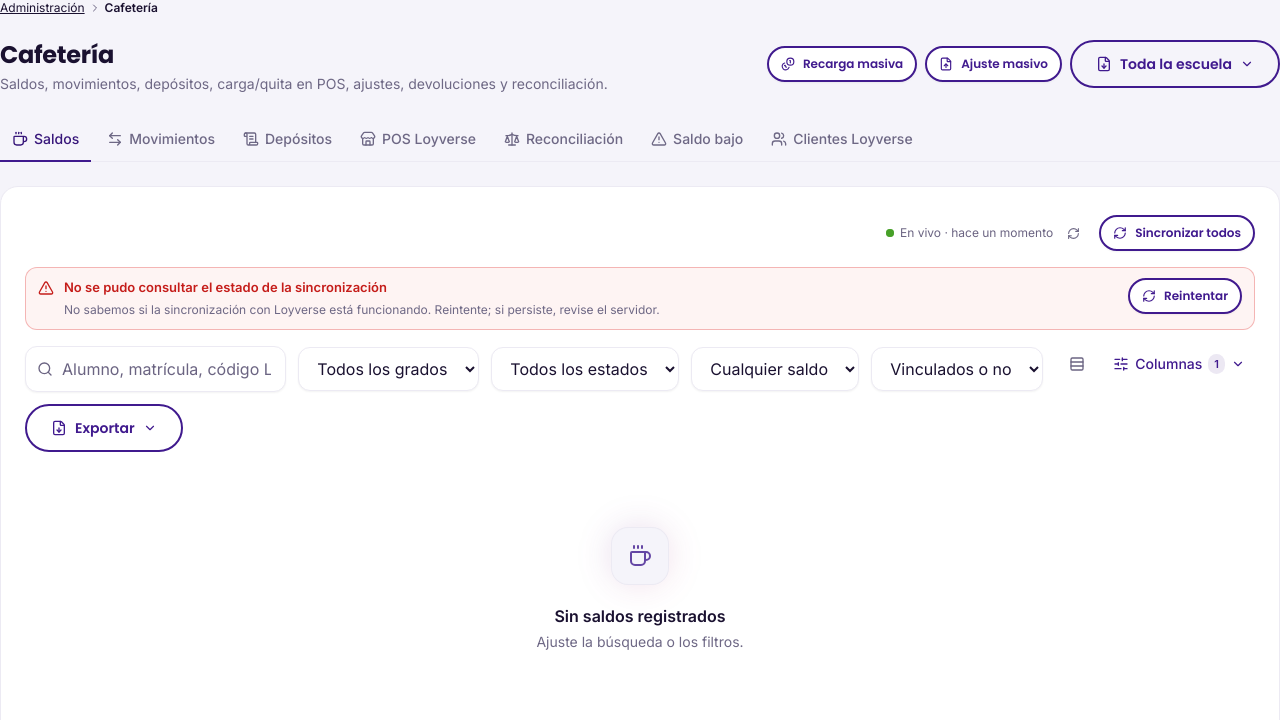
AdminCafeteria Depósitos bulk apply › shows the MXN total of the dry run before any money moves
What coordinates should you click on to do the following:
click the tab "Depósitos"
I would click on:
 (288, 140)
Its box is [231, 118, 344, 162].
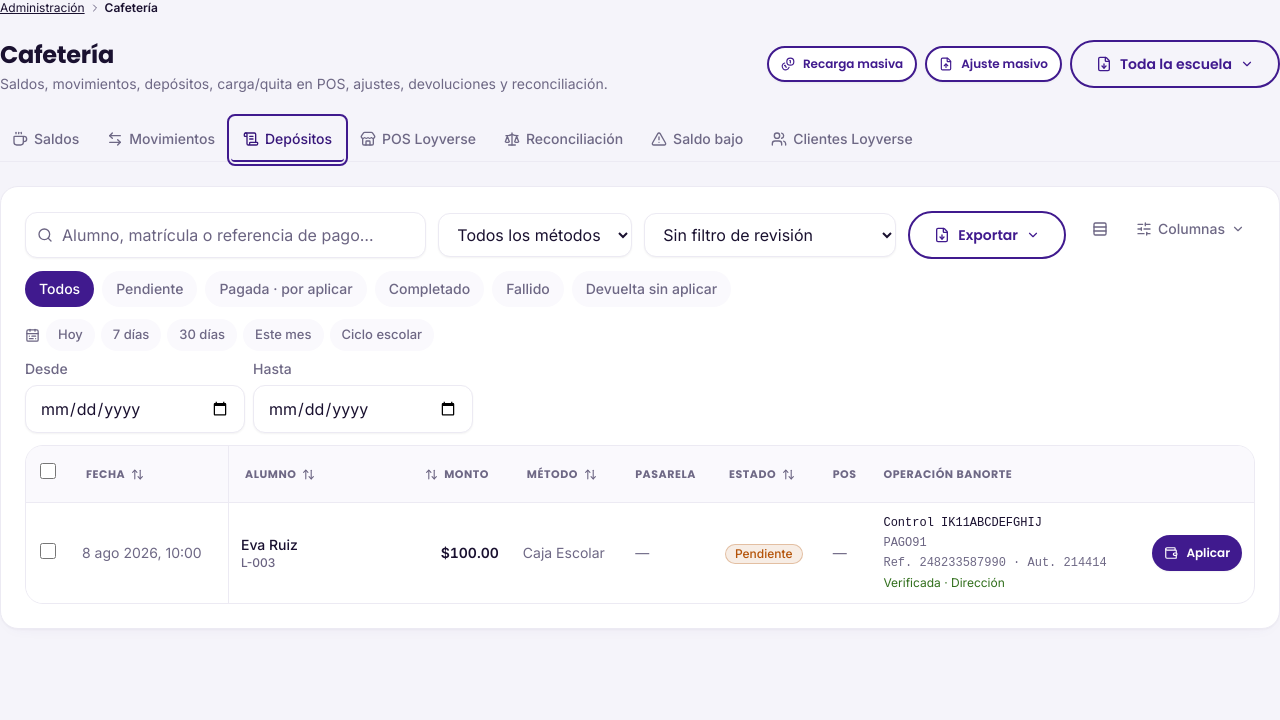
What coordinates should you click on to do the following:
click the button with aria-label "Aplicar depósito de Eva Ruiz"
I would click on:
 (1197, 553)
Its box is [1152, 535, 1242, 571].
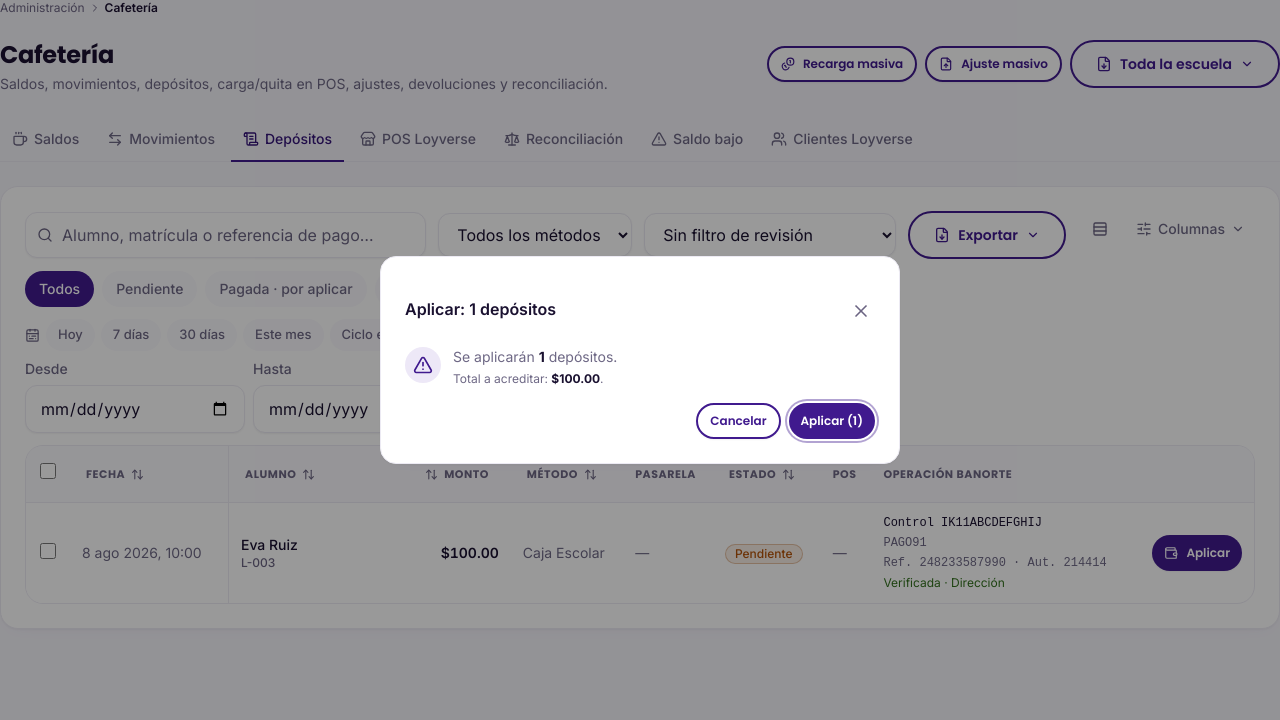
Expected: the text "Total a acreditar: $100.00." is shown, [453, 371, 617, 387]
